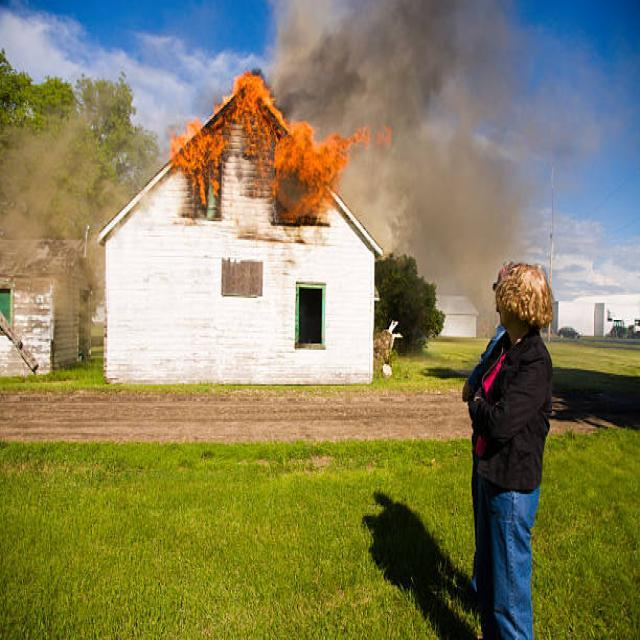Smoke: (289, 7, 520, 265), (170, 86, 364, 220)
